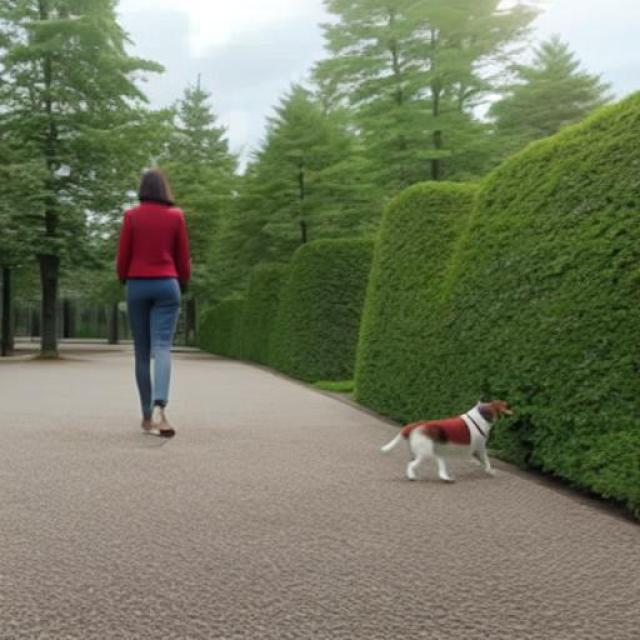Unleashed_Dog: (129, 277, 513, 483)
